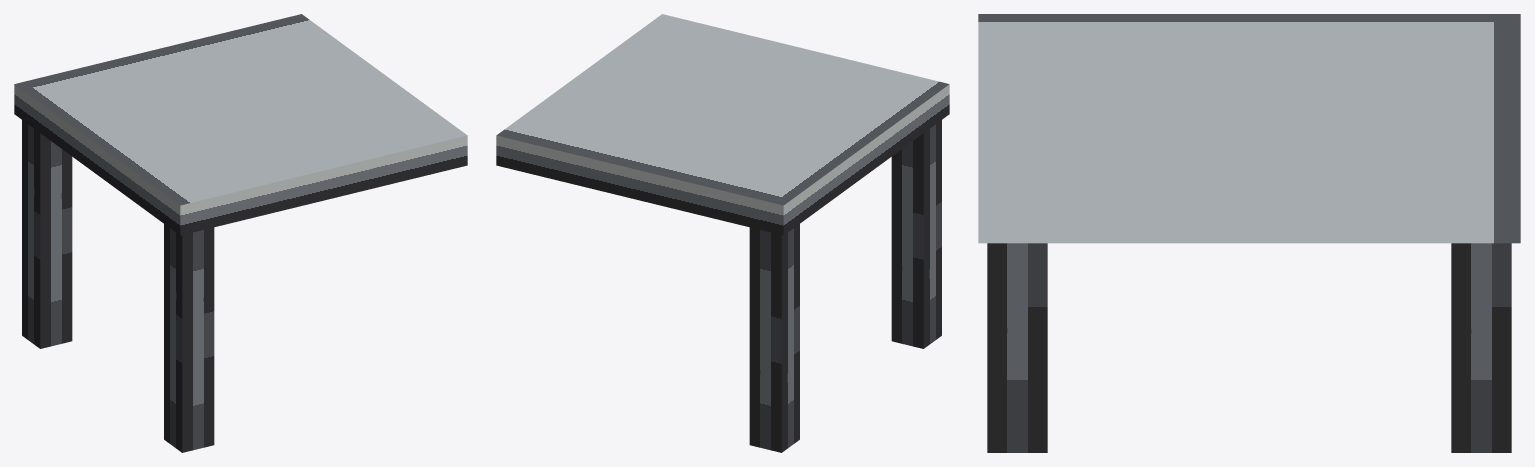
File: table_end_2legs.glb
3 renders of one model, left to right at view 1: azimuth 30°, elevation 25°; view 2: azimuth 150°, elevation 25°; view 3: azimuth 270°, elevation 25°, orthographic. The views are drawn at different scales.
Visible parts, largest first — view 1: table_end_2legs; view 2: table_end_2legs; view 3: table_end_2legs.
Part boxes in pixels (left/top/right/bottom): table_end_2legs: left=14, top=14, right=467, bottom=452; table_end_2legs: left=496, top=14, right=949, bottom=452; table_end_2legs: left=978, top=14, right=1520, bottom=452.
Bounding box in the file's own units: 0.9 × 0.75 × 0.9.
Materials: 1 (1 with a texture image).
